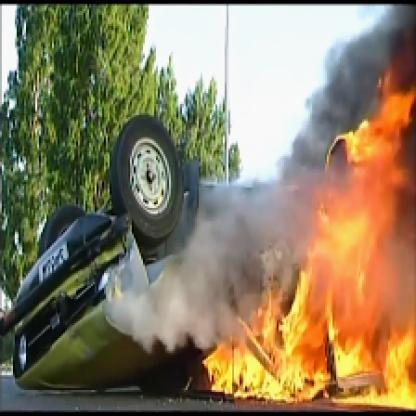Fire: (195, 52, 414, 414)
